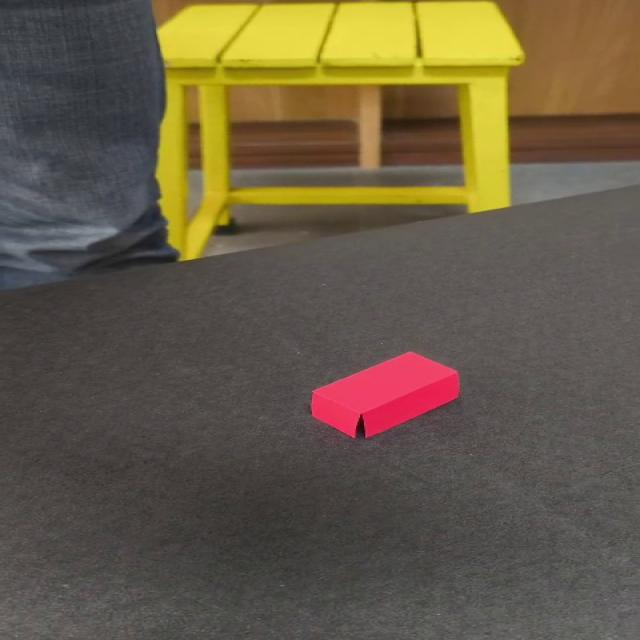red block: (308, 351, 460, 438)
